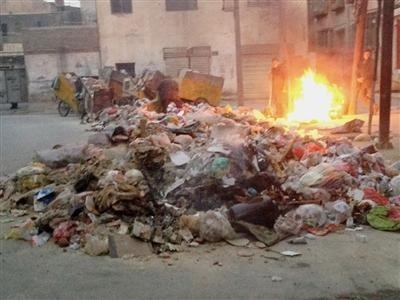fire: (282, 67, 343, 125)
